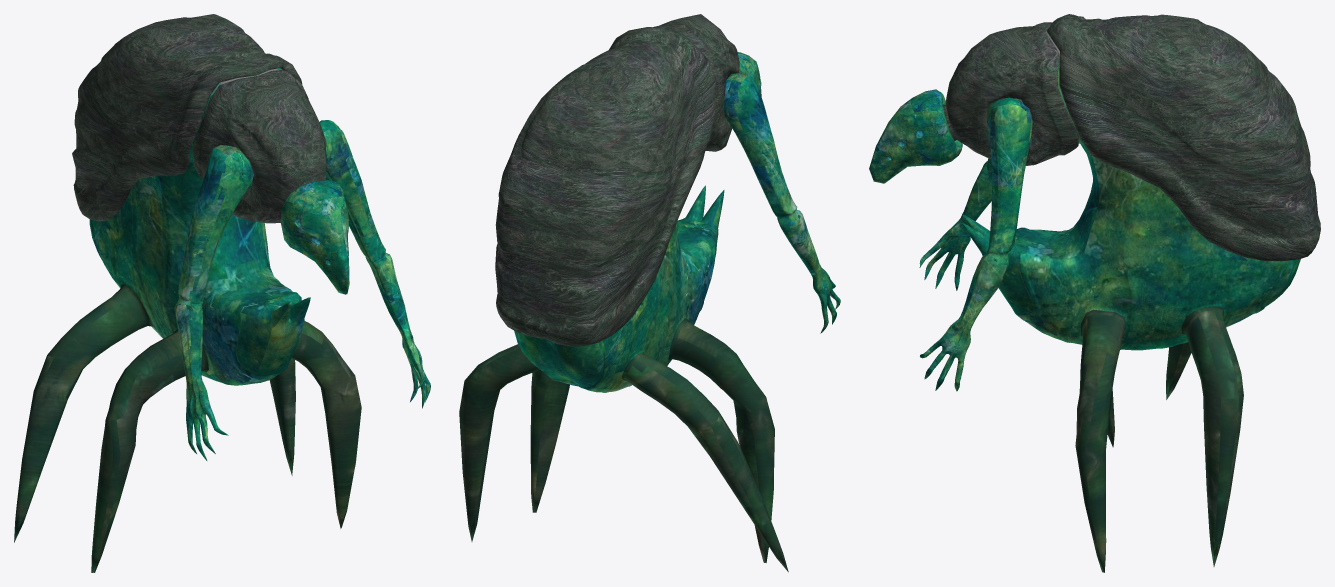
Rendered from Andar.0017.obj.
3 renders of one model, left to right at view 1: azimuth 30°, elevation 25°; view 2: azimuth 150°, elevation 25°; view 3: azimuth 270°, elevation 25°, orthographic. The views are drawn at different scales.
Visible parts, largest first — view 1: pCube14; view 2: pCube14; view 3: pCube14.
Boxes of the visible parts, x1,y1,x2,y2 form: pCube14: (14,14,430,572); pCube14: (459,14,840,572); pCube14: (869,14,1320,572).
Bounding box in the file's own units: 2.48 × 3.93 × 3.24.
5 materials, 4 textured.
